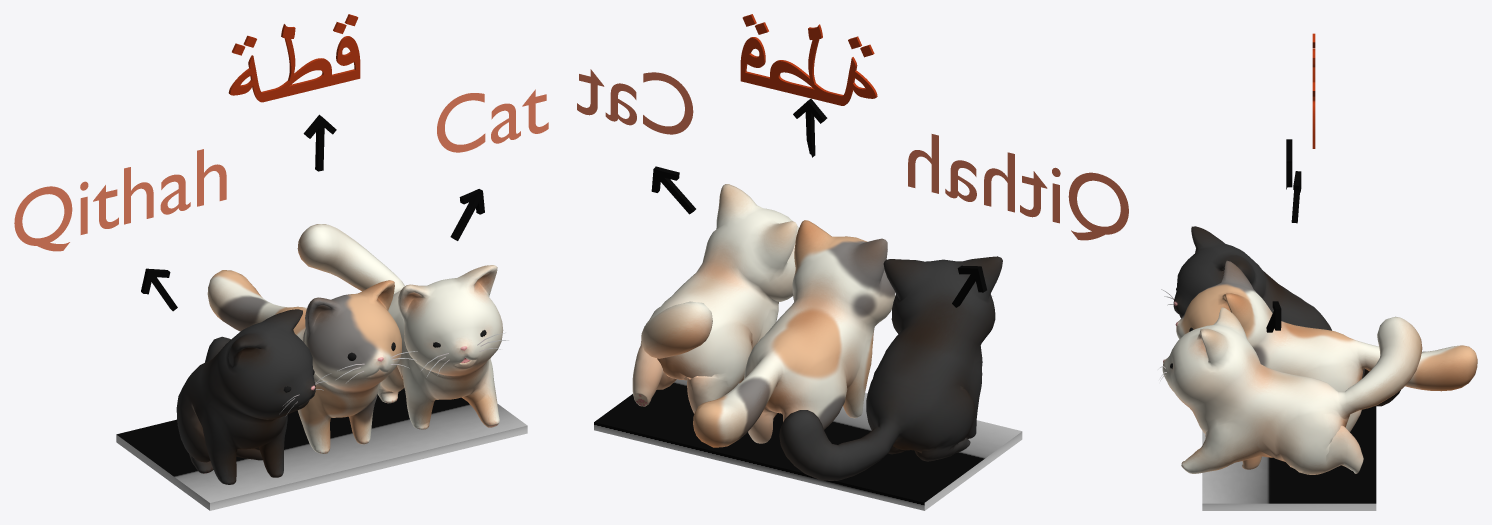
Rendered from cat.fbx.
The picture shows the model from 3 angles, left to right: view 1: azimuth 30°, elevation 25°; view 2: azimuth 150°, elevation 25°; view 3: azimuth 270°, elevation 25°; orthographic projection. The views are drawn at different scales.
Parts seen in each view (by area): view 1: fat_cat_white1, pCube1, fat_cat_white2, fat_cat_white, Text.003, text5, Text.002, Cube.001, Cube.003, Cube.002; view 2: fat_cat_white2, fat_cat_white, fat_cat_white1, pCube1, Text.003, text5, Text.002, Cube.001, Cube.003, Cube.002; view 3: fat_cat_white1, fat_cat_white, pCube1, fat_cat_white2, text5, Cube.002.
Boxes of the visible parts, bbox=[...] form: fat_cat_white1: bbox=[297, 224, 508, 429]; pCube1: bbox=[116, 388, 527, 510]; fat_cat_white2: bbox=[176, 309, 331, 484]; fat_cat_white: bbox=[207, 270, 417, 453]; Text.003: bbox=[14, 149, 226, 251]; text5: bbox=[228, 14, 360, 102]; Text.002: bbox=[437, 89, 548, 152]; Cube.001: bbox=[450, 189, 484, 240]; Cube.003: bbox=[303, 114, 336, 171]; Cube.002: bbox=[141, 268, 177, 311]; fat_cat_white2: bbox=[779, 256, 1002, 480]; fat_cat_white: bbox=[693, 220, 895, 447]; fat_cat_white1: bbox=[632, 184, 798, 413]; pCube1: bbox=[594, 379, 1022, 510]; Text.003: bbox=[908, 134, 1128, 240]; text5: bbox=[740, 14, 877, 105]; Text.002: bbox=[577, 69, 693, 134]; Cube.001: bbox=[651, 166, 695, 214]; Cube.003: bbox=[793, 99, 827, 157]; Cube.002: bbox=[952, 265, 986, 307]; fat_cat_white1: bbox=[1158, 307, 1422, 474]; fat_cat_white: bbox=[1175, 260, 1477, 431]; pCube1: bbox=[1202, 406, 1376, 510]; fat_cat_white2: bbox=[1161, 226, 1400, 406]; text5: bbox=[1312, 33, 1315, 148]; Cube.002: bbox=[1291, 171, 1301, 223].
Size of the model in its own units: 194 by 143 by 109.
Materials: 7 (4 with a texture image).
